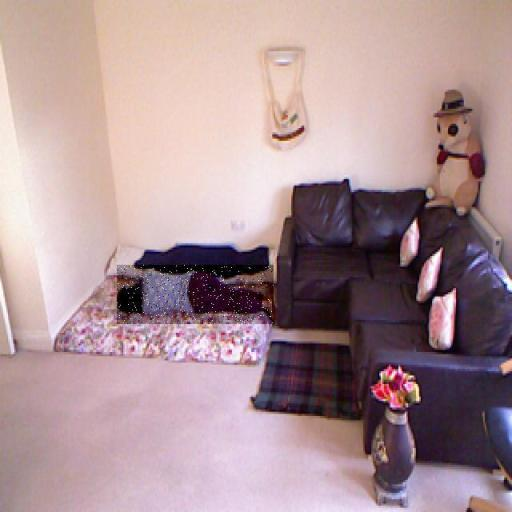Fall: (117, 265, 274, 324)
